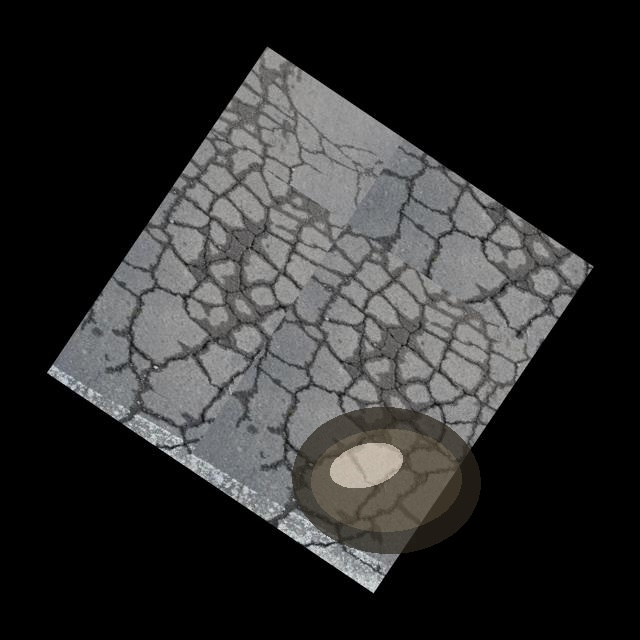waterlogging: (282, 397, 490, 563)
